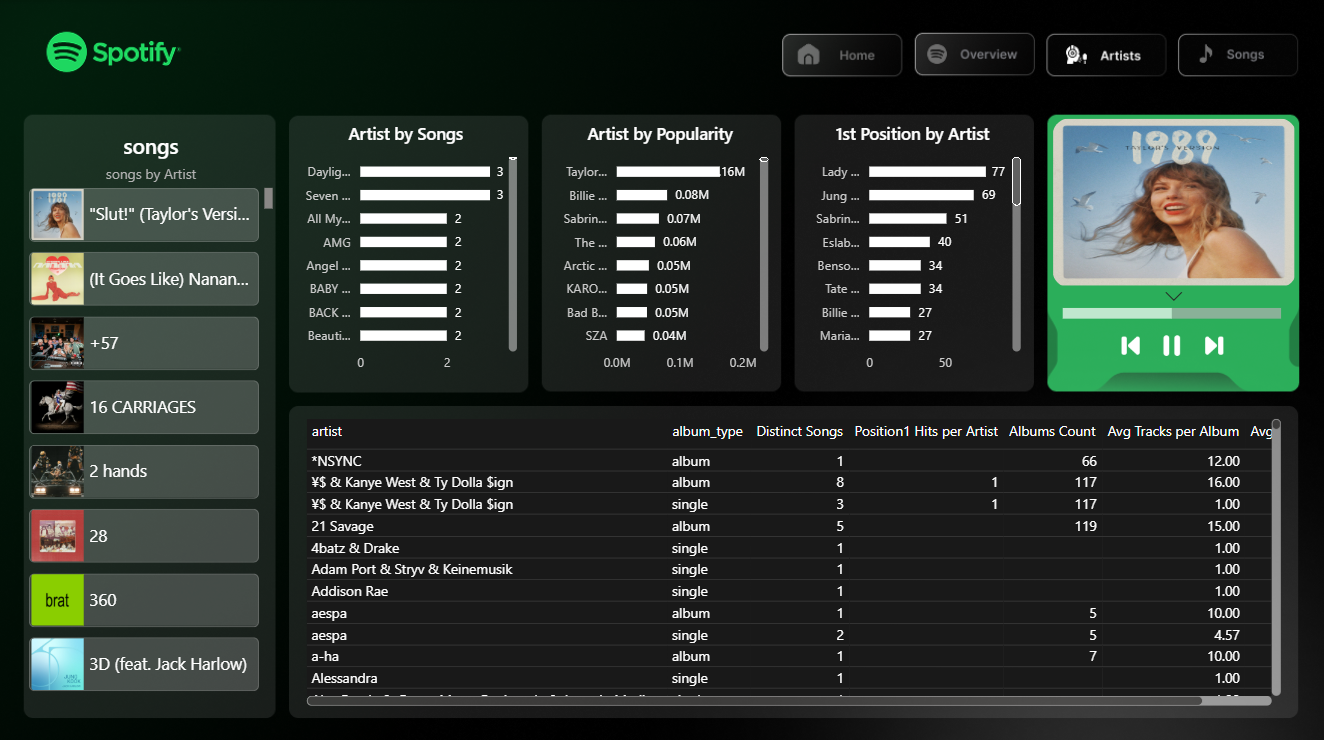

Layout of this report page (visuals, bound fields, positions):
{"tool":"powerbi","page":{"name":"Artists","canvas":[1280,720],"ordinal":2},"visuals":[{"type":"actionButton","box":[759.7,35,100.5,39.6],"z":0},{"type":"actionButton","box":[892.1,35,100.5,39.6],"z":1000},{"type":"actionButton","box":[1134.2,35,100.5,39.6],"z":2000},{"type":"listSlicer","title":"songs","fields":{"Values":["Top-50-World.song"]},"box":[1010.9,89.8,245.1,213.1],"z":3000},{"type":"hundredPercentStackedBarChart","fields":{"Y":["Measure's.Avg Popularity","Avg(Top-50-World.popularity)"]},"box":[1022,260,220.7,80],"z":4000},{"type":"image","box":[1160.4,325,25,20],"z":5000},{"type":"image","box":[1080,325,25,20],"z":6000},{"type":"image","box":[1120,325,25,20],"z":7000},{"type":"clusteredBarChart","title":"Artist by Songs","fields":{"Y":["Measure's.Distinct Artists"],"Category":["Top-50-World.song"]},"box":[280.1,118.7,225.3,251.2],"z":8000},{"type":"clusteredBarChart","title":"Artist by Popularity","fields":{"Y":["Sum(Top-50-World.popularity)"],"Category":["Top-50-World.artist"]},"box":[528.3,118.7,219.2,251.2],"z":9000},{"type":"listSlicer","title":"songs","fields":{"Values":["Top-50-World.song"]},"box":[24.4,127.9,245.1,545],"z":10000},{"type":"tableEx","fields":{"Values":["Top-50-World.artist","Top-50-World.album_type","Measure's.Distinct Songs","Measure's.Position1 Hits per Artist","Measure's.Albums Count","Measure's.Avg Tracks per Album","Measure's.Avg Popularity"]},"box":[290.8,400.4,951.5,286.2],"z":11000},{"type":"clusteredBarChart","title":"1st Position by Artist ","fields":{"Y":["Measure's.Position1 Hits per Artist"],"Category":["Top-50-World.artist"]},"box":[771.8,118.7,219.2,251.2],"z":12000}]}

Visuals, with their boxes in screenshot pixels (x1, y1, x2, y2), scaled from the page's 1280x720 canvas onto the 1324x740 screenshot:
actionButton: (786,36,890,77)
actionButton: (923,36,1027,77)
actionButton: (1173,36,1277,77)
"songs" listSlicer: (1046,92,1299,311)
hundredPercentStackedBarChart - Measure's.Avg Popularity x Avg(Top-50-World.popularity): (1057,267,1285,349)
image: (1200,334,1226,355)
image: (1117,334,1143,355)
image: (1158,334,1184,355)
"Artist by Songs" clusteredBarChart: (290,122,523,380)
"Artist by Popularity" clusteredBarChart: (546,122,773,380)
"songs" listSlicer: (25,131,279,692)
tableEx - Top-50-World.artist x Top-50-World.album_type: (301,412,1285,706)
"1st Position by Artist " clusteredBarChart: (798,122,1025,380)
